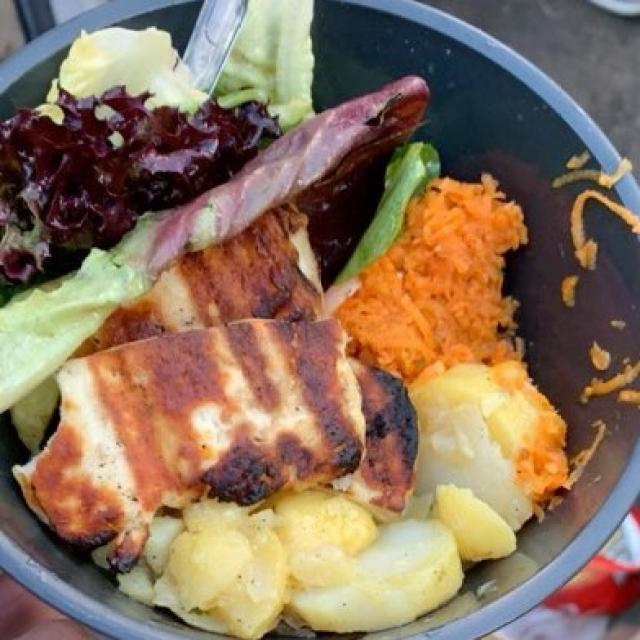carrot-raw: (340, 183, 526, 388)
halloumi: (20, 207, 422, 569)
salad-leaf-salad-green: (1, 6, 439, 420)
